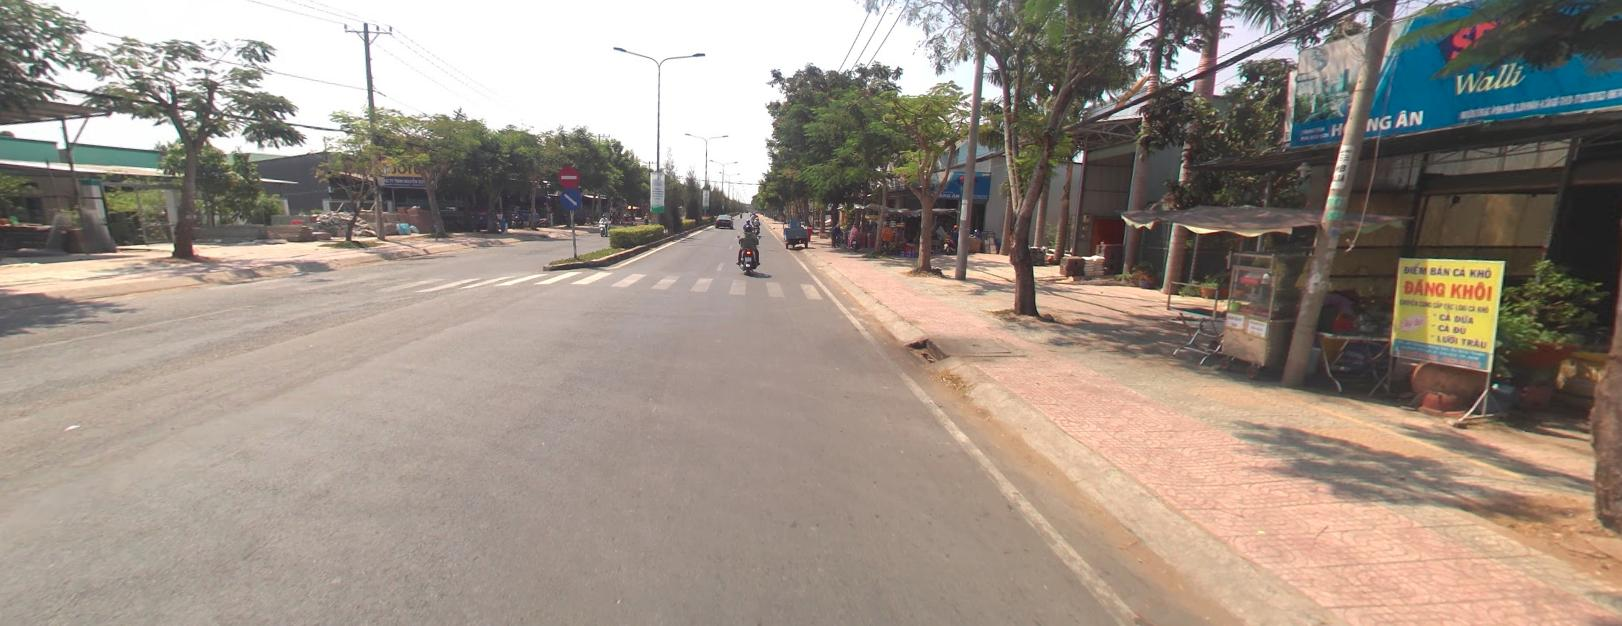Cam nguoc chieu: (558, 165, 579, 186)
Hieu lenh: (560, 188, 580, 208)
